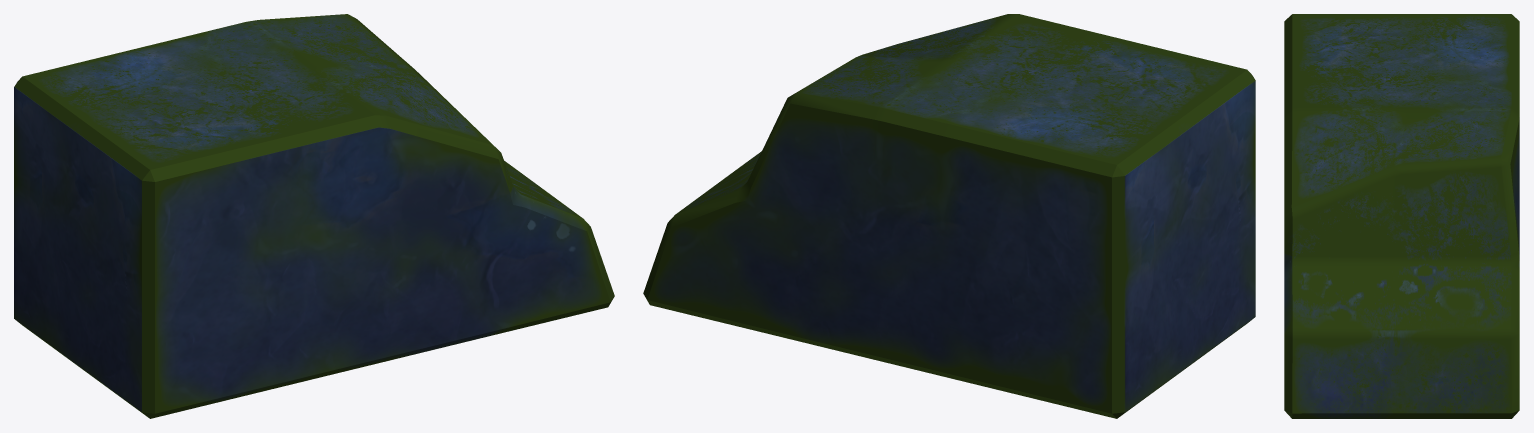
The model's file is StoneBrickEnd.fbx.
The picture shows the model from 3 angles, left to right: view 1: azimuth 30°, elevation 25°; view 2: azimuth 150°, elevation 25°; view 3: azimuth 270°, elevation 25°; orthographic projection. The views are drawn at different scales.
Visible parts, largest first — view 1: SM_StoneBrickEnd1; view 2: SM_StoneBrickEnd1; view 3: SM_StoneBrickEnd1.
Boxes of the visible parts, x1,y1,x2,y2 form: SM_StoneBrickEnd1: [14, 14, 614, 418]; SM_StoneBrickEnd1: [643, 14, 1255, 418]; SM_StoneBrickEnd1: [1284, 14, 1519, 418].
Bounding box in the file's own units: 49.68 × 25 × 25.
1 material, 1 textured.
